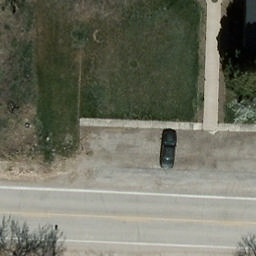car: (158, 129, 177, 169)
